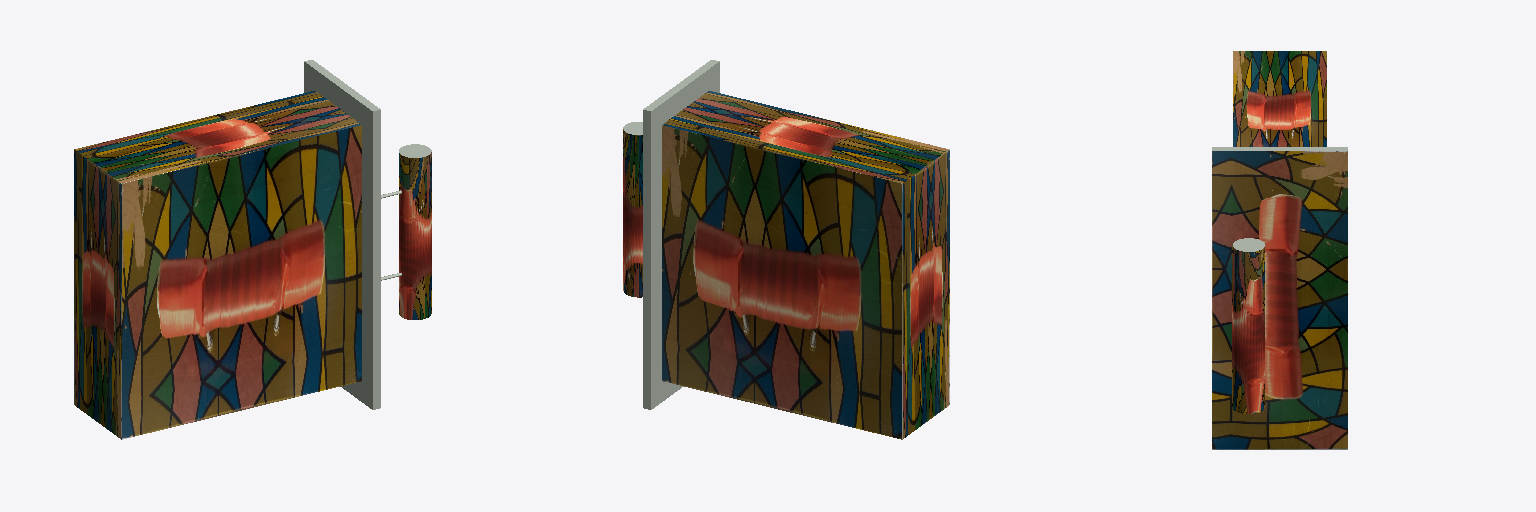
The picture shows the model from 3 angles: view 1: azimuth 30°, elevation 25°; view 2: azimuth 150°, elevation 25°; view 3: azimuth 270°, elevation 25°; orthographic projection.
Bounding box in the file's own units: 0.3875 × 0.35 × 0.145.
Materials: 3 (2 with a texture image).